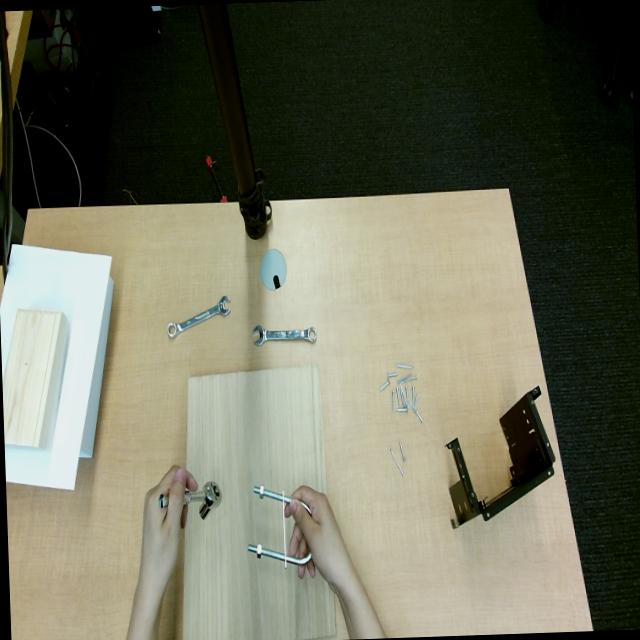wrench: (166, 296, 230, 338), (253, 324, 316, 347), (184, 482, 221, 520)
